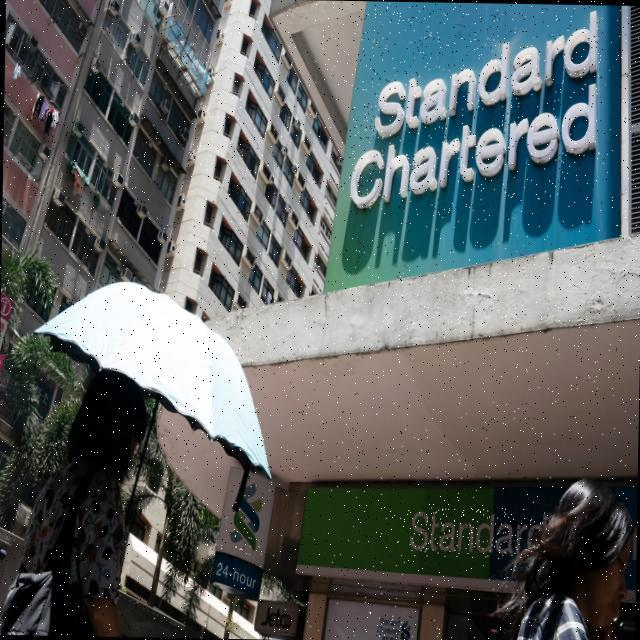Standard Chartered: (348, 3, 601, 213), (406, 507, 547, 559), (229, 481, 263, 552), (376, 615, 409, 640)
